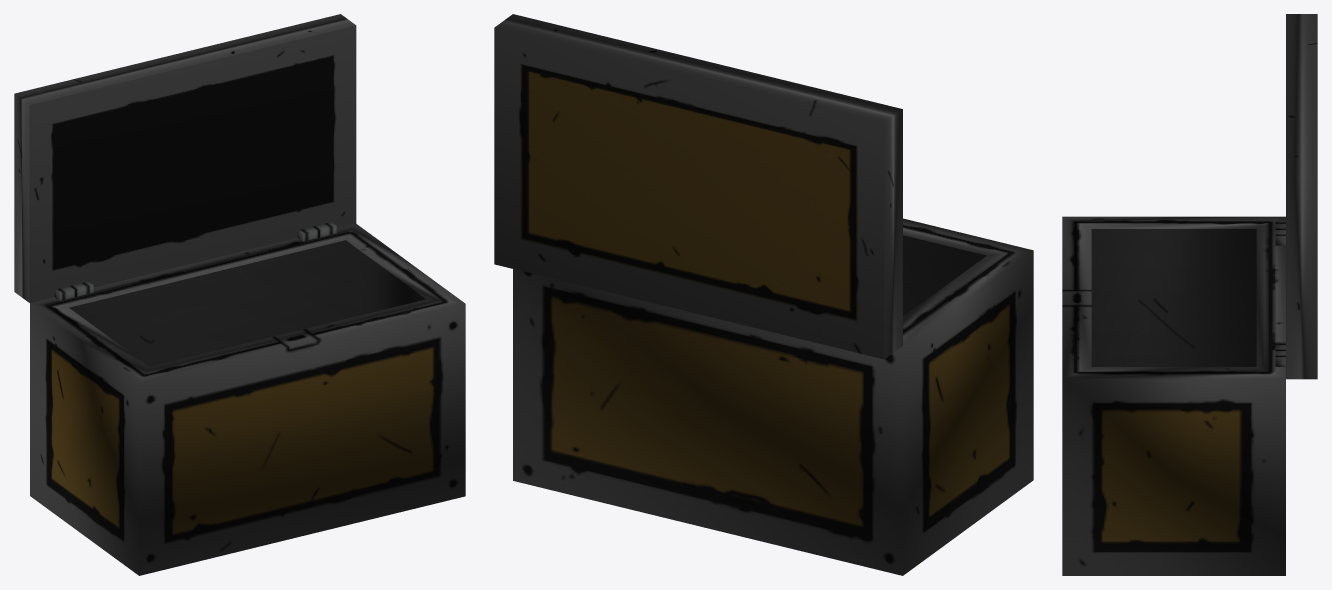
The model's file is mod_prop_storage_box01.fbx.
The picture shows the model from 3 angles, left to right: view 1: azimuth 30°, elevation 25°; view 2: azimuth 150°, elevation 25°; view 3: azimuth 270°, elevation 25°; orthographic projection. The views are drawn at different scales.
Parts seen in each view (by area): view 1: mod_prop_storage_box01, mod_prop_storagebox01_lid; view 2: mod_prop_storage_box01, mod_prop_storagebox01_lid; view 3: mod_prop_storage_box01, mod_prop_storagebox01_lid.
Part boxes in pixels (bbox=[...]): mod_prop_storage_box01: bbox=[30, 222, 465, 575]; mod_prop_storagebox01_lid: bbox=[14, 14, 356, 303]; mod_prop_storage_box01: bbox=[513, 218, 1033, 575]; mod_prop_storagebox01_lid: bbox=[494, 14, 902, 359]; mod_prop_storage_box01: bbox=[1062, 216, 1285, 575]; mod_prop_storagebox01_lid: bbox=[1286, 14, 1317, 379].
Bounding box in the file's own units: 120 × 137 × 79.41.
